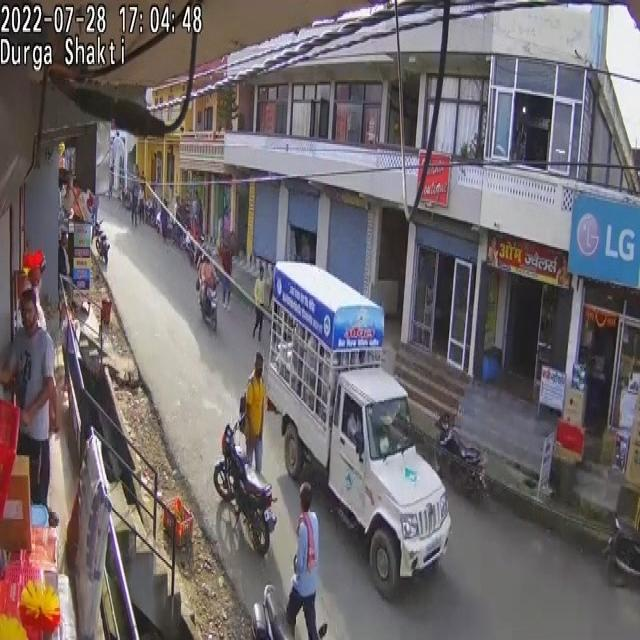non-fight: (0, 291, 60, 517), (284, 481, 322, 640), (244, 353, 267, 475), (197, 249, 217, 317), (252, 266, 266, 338), (220, 237, 234, 307), (130, 184, 139, 226)
